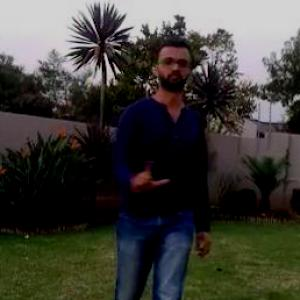land_hand: (126, 159, 173, 200)
